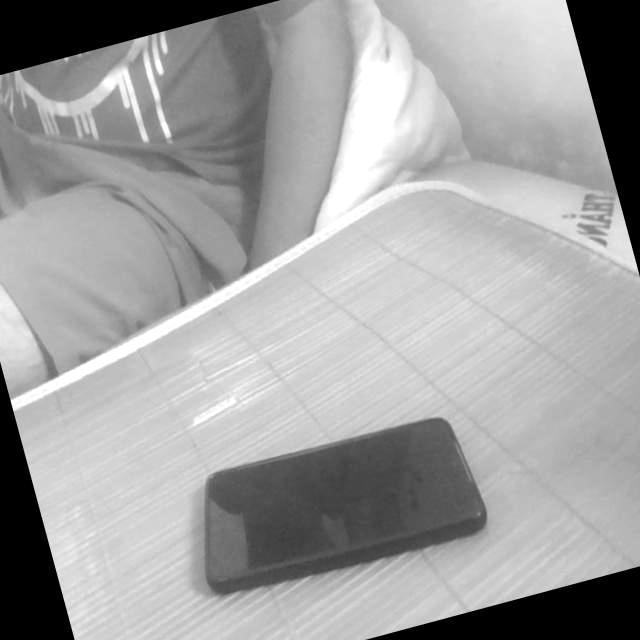phone: (156, 378, 507, 618)
